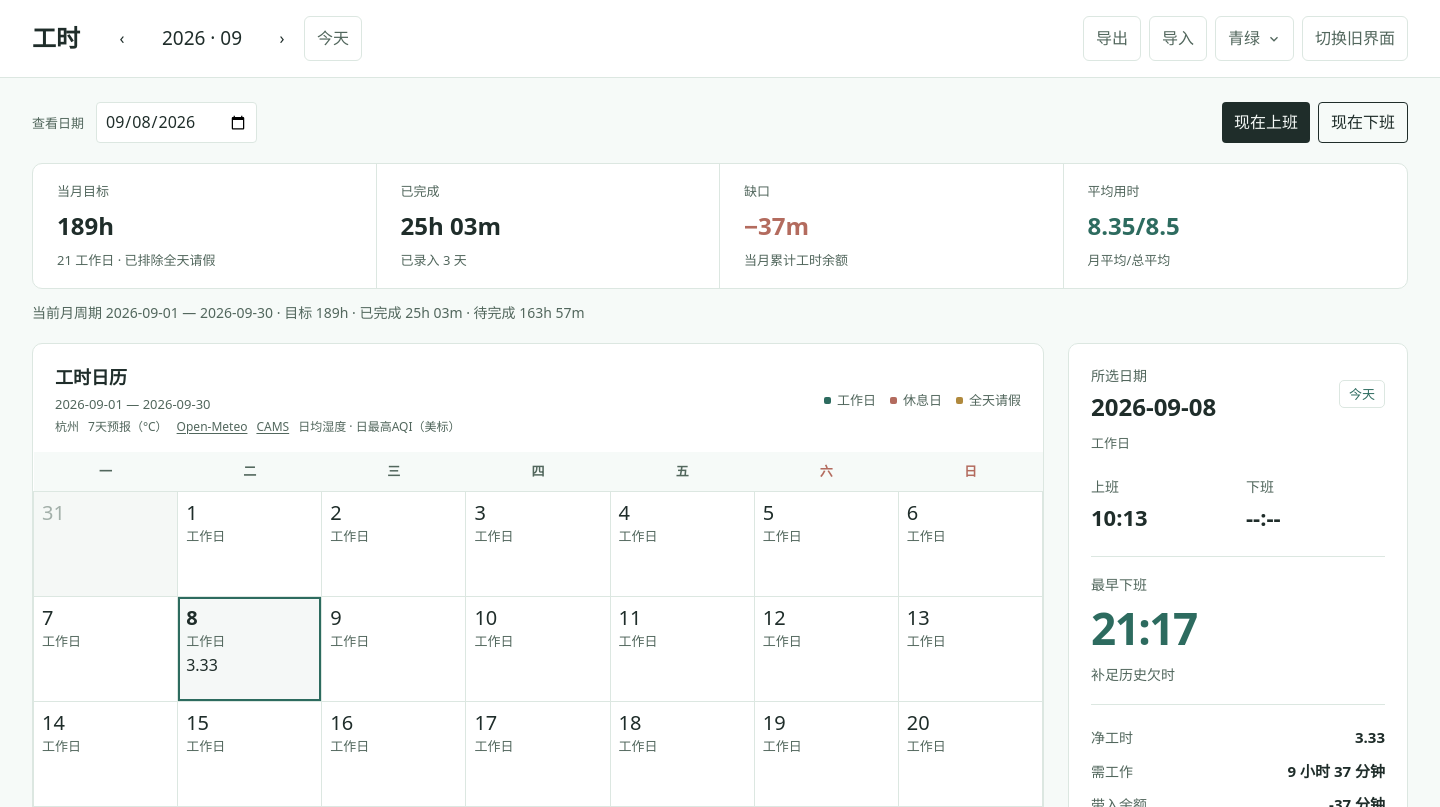
Test: uses refreshed server compliance after saving (390 minutes)
The image size is (1440, 807).
What coordinates should you click on to do the following:
click the button with aria-label "选择 2026-09-08"
I would click on:
 (250, 649)
Its box is [178,597,321,701].
(page scrolled)
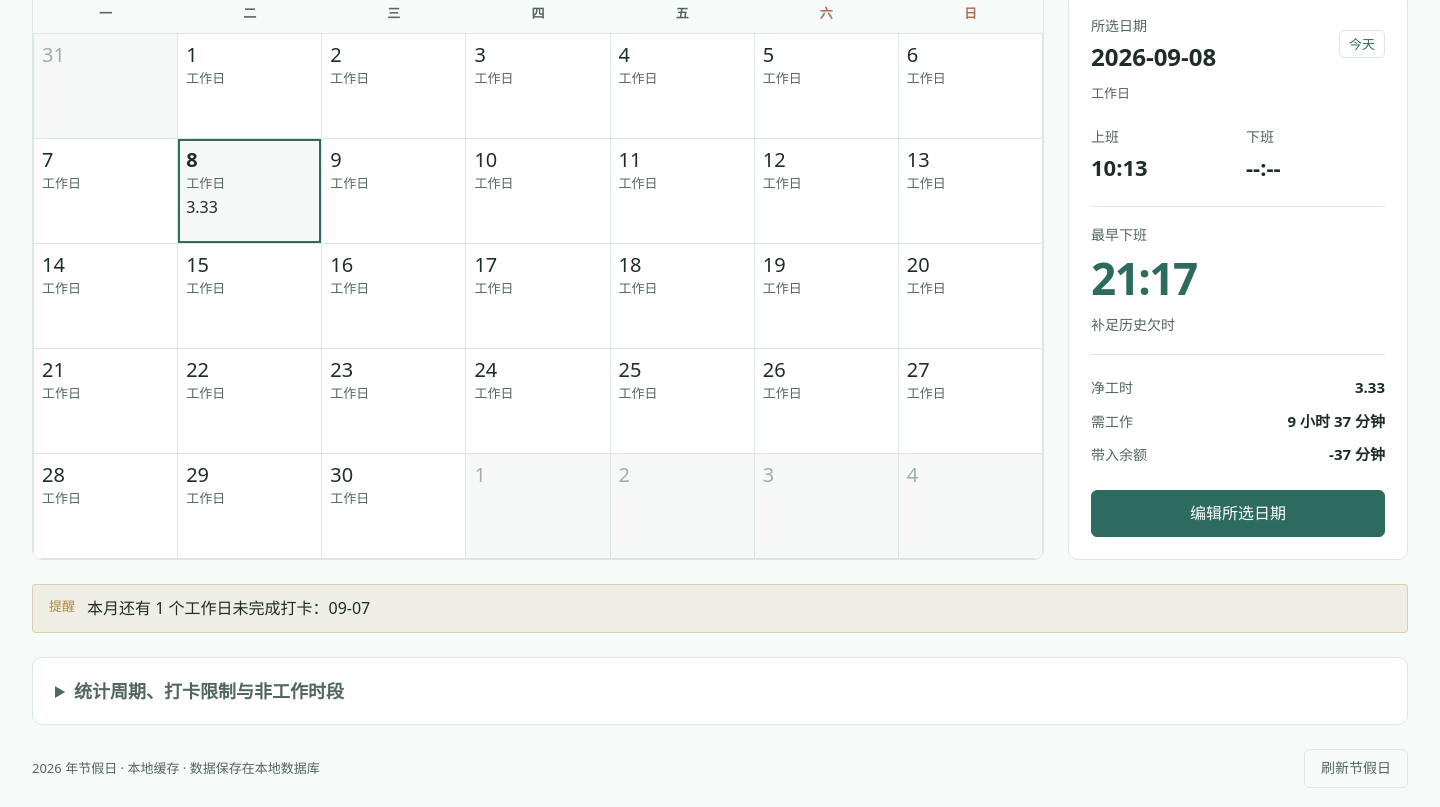
What coordinates should you click on to do the following:
click the button "编辑所选日期"
I would click on:
 (1238, 513)
Its box is [1091,490,1385,537].
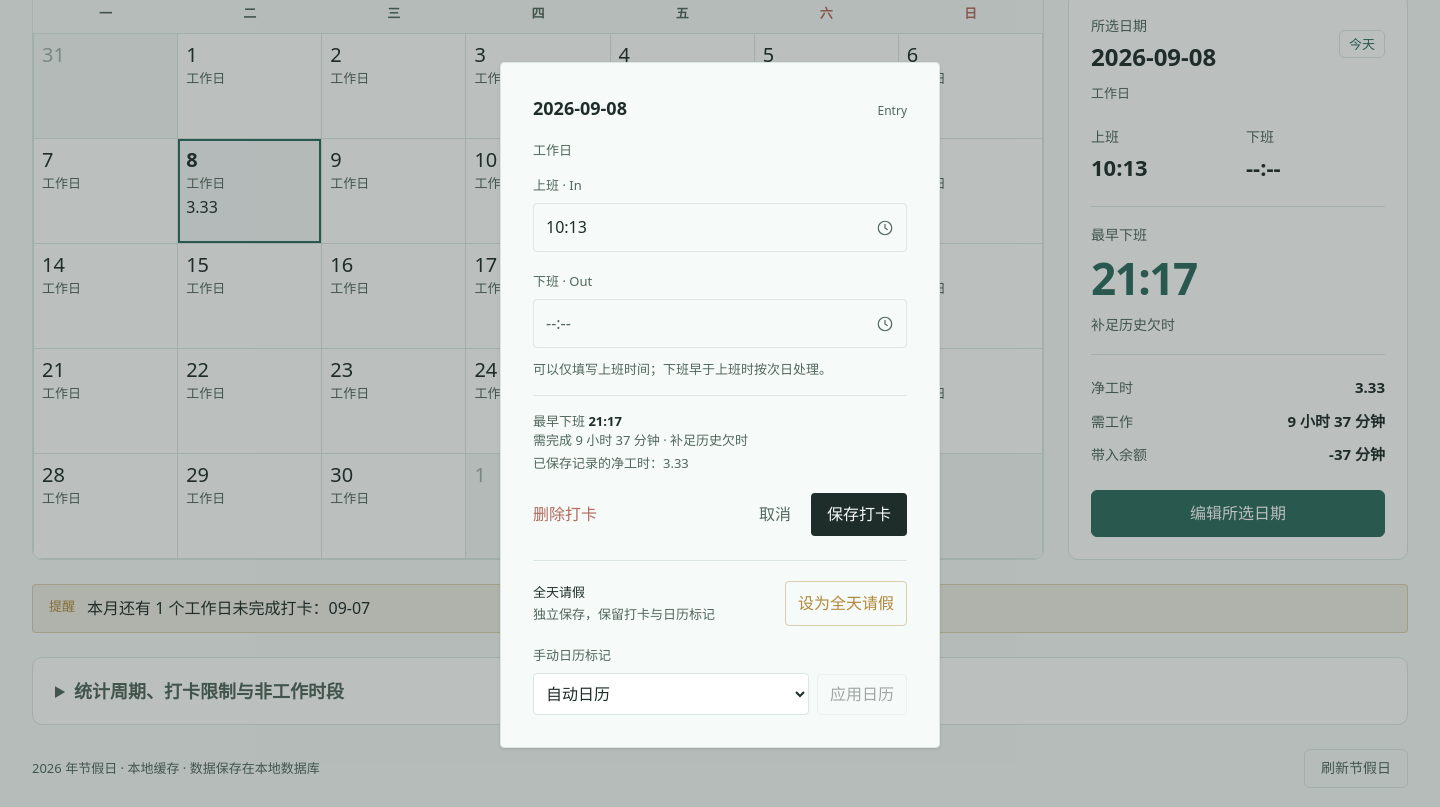
Check: the dialog is shown, box [500,62,940,748]
What coordinates should you click on to do the following:
click the button "保存打卡"
I would click on:
 (859, 514)
Its box is [811,493,907,536].
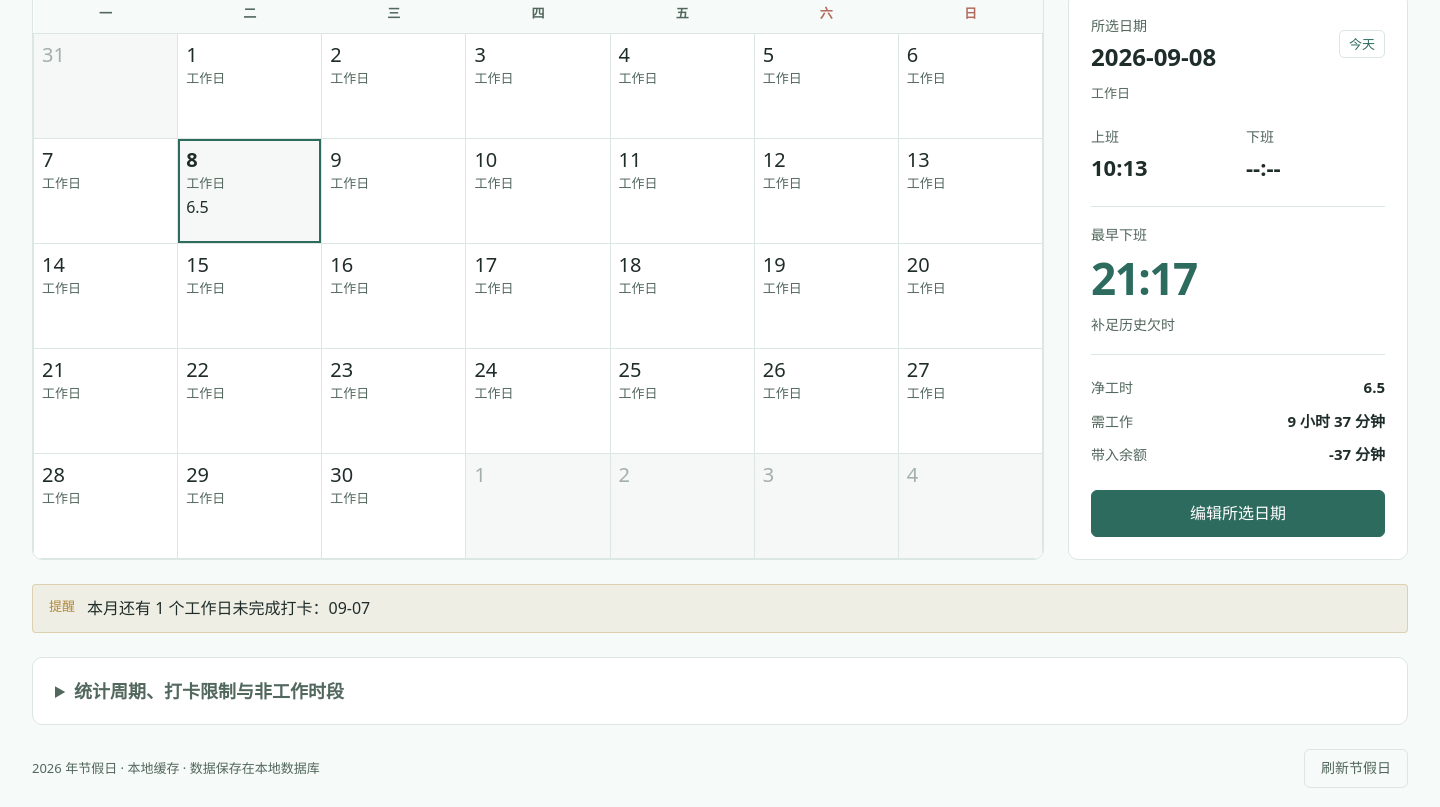
Check: the dialog is gone
